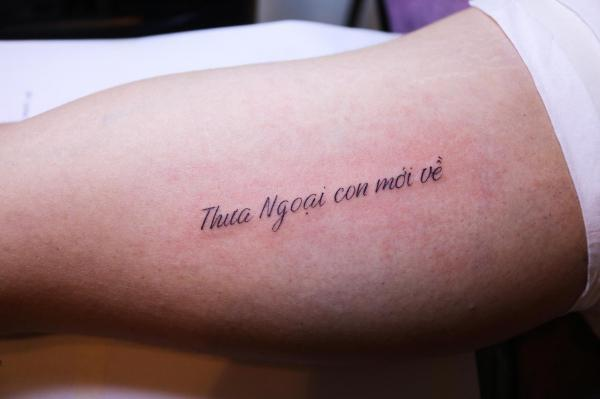text: (197, 155, 445, 235)
